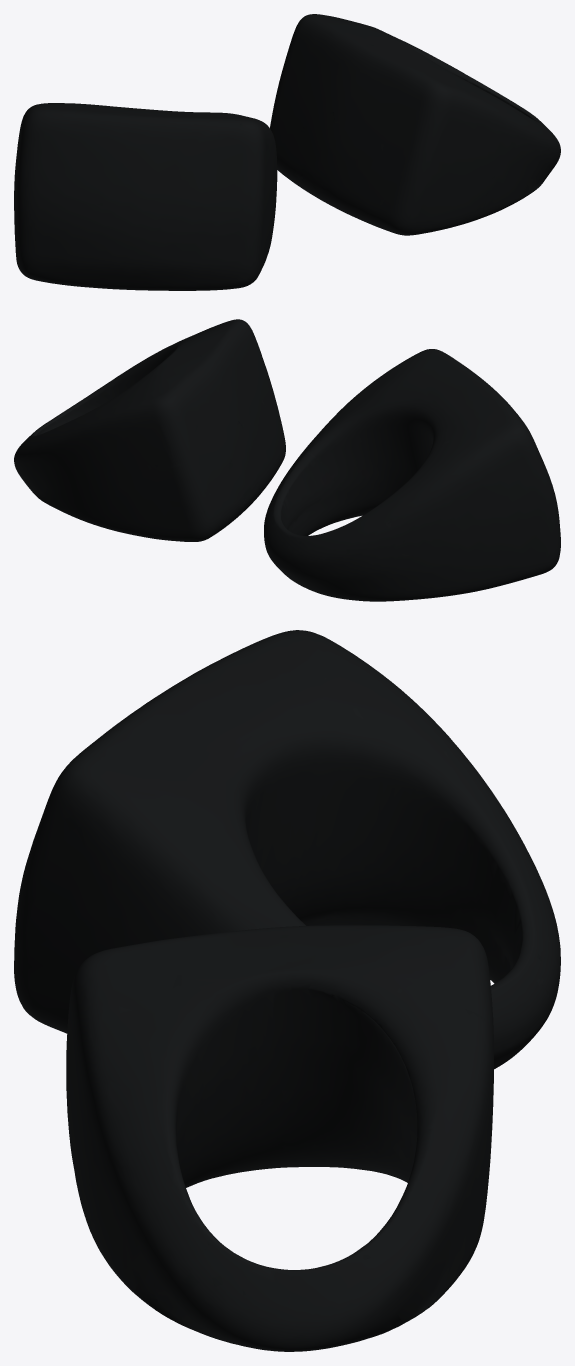
The model's file is black-ring-stands.glb.
The picture shows the model from 3 angles, top to bottom: view 1: azimuth 30°, elevation 25°; view 2: azimuth 150°, elevation 25°; view 3: azimuth 270°, elevation 25°; orthographic projection. The views are drawn at different scales.
Bounding box in the file's own units: 1.9 × 0.5568 × 0.9406.
1 material, 1 textured.
